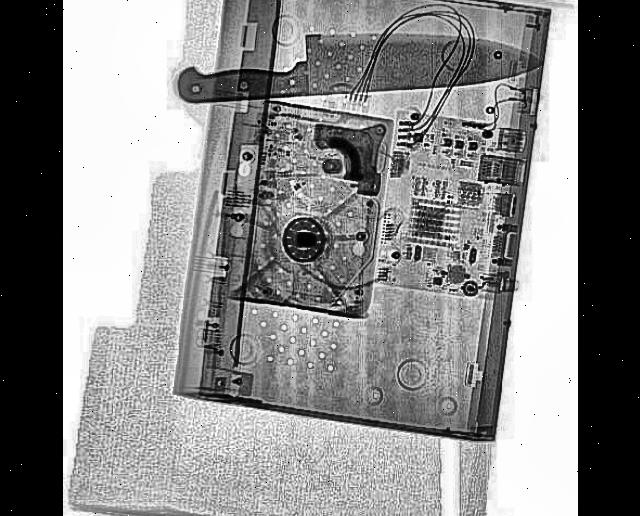Knife: (172, 28, 544, 102)
